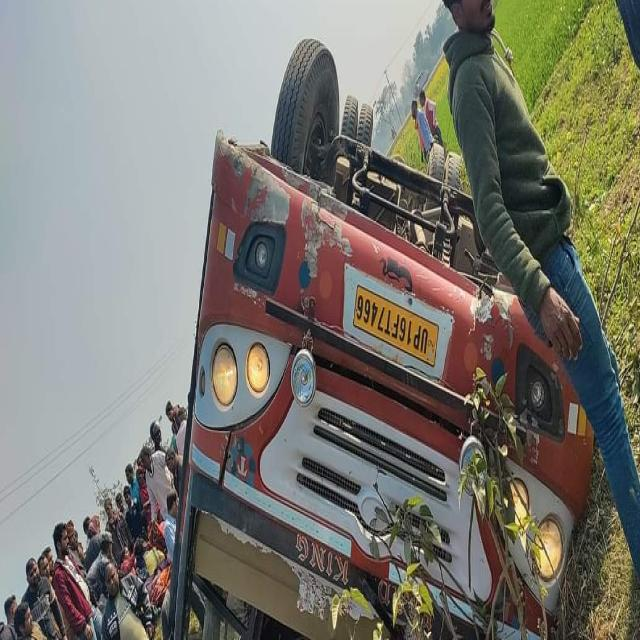accident: (162, 41, 592, 639)
